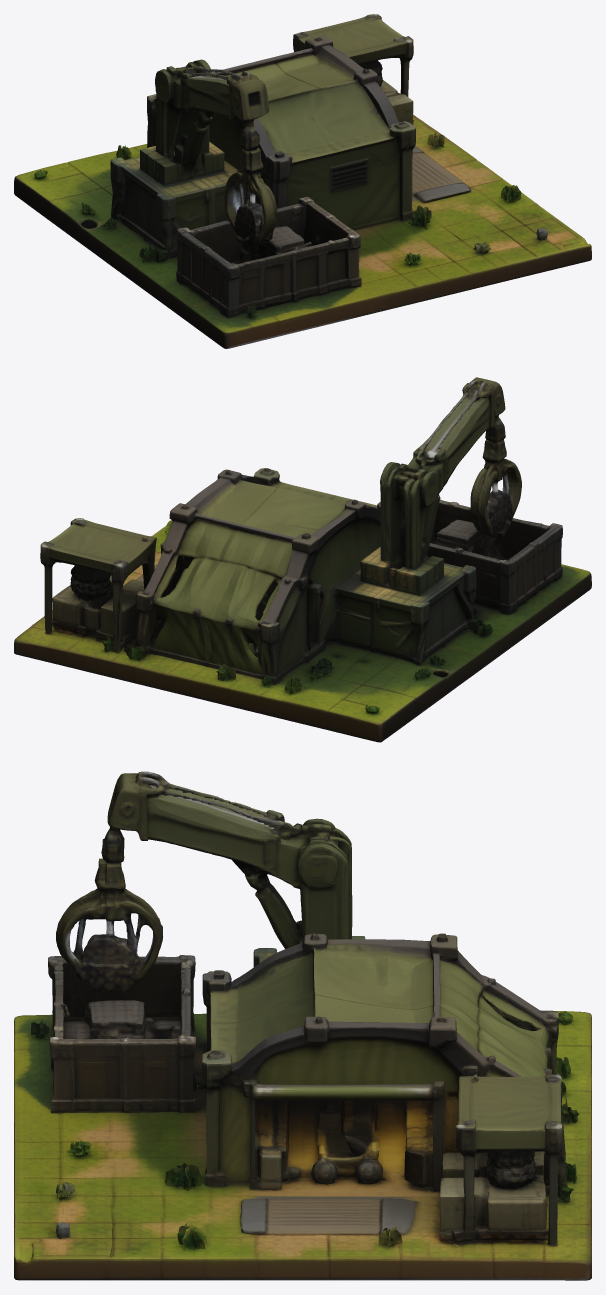
Rendered from disassemble.glb.
3 renders of one model, top to bottom at view 1: azimuth 30°, elevation 25°; view 2: azimuth 150°, elevation 25°; view 3: azimuth 270°, elevation 25°, orthographic. The views are drawn at different scales.
Parts seen in each view (by area): view 1: world; view 2: world; view 3: world.
Part boxes in pixels (bbox=[...]): world: bbox=[14, 14, 591, 348]; world: bbox=[14, 377, 591, 742]; world: bbox=[14, 771, 591, 1280].
Size of the model in its own units: 1 by 0.5854 by 1.
1 material, 1 textured.
